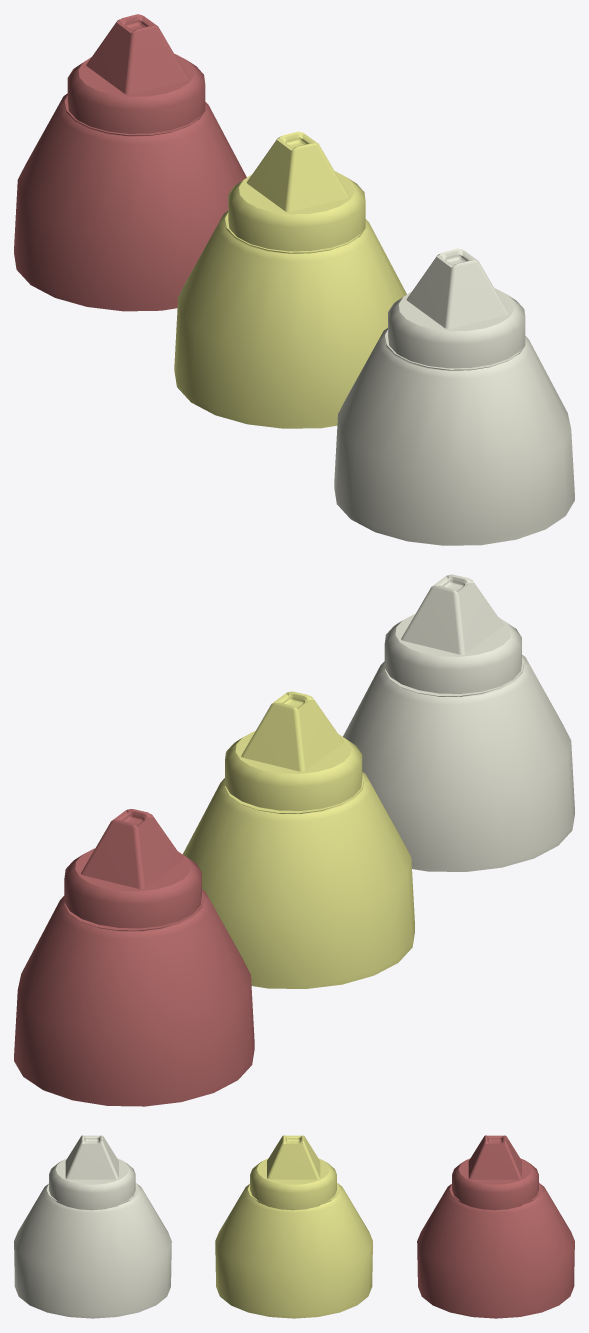
Rendered from Modelo capsu,mayonesa y mostaza.fbx.
The picture shows the model from 3 angles, top to bottom: view 1: azimuth 30°, elevation 25°; view 2: azimuth 150°, elevation 25°; view 3: azimuth 270°, elevation 25°; orthographic projection. The views are drawn at different scales.
Visible parts, largest first — view 1: pCylinder1, pCylinder6, pCylinder4, Capsu, pCylinder2, pCylinder3, pCube2, pCube3, pCube1; view 2: pCylinder6, pCylinder4, pCylinder1, pCylinder2, Capsu, pCylinder3, pCube1, pCube2, pCube3; view 3: pCylinder1, pCylinder6, pCylinder4, pCylinder3, Capsu, pCylinder2, pCube1, pCube2, pCube3.
Part boxes in pixels (left/top/right/bottom): pCylinder1: left=334, top=328, right=574, bottom=545; pCylinder6: left=14, top=93, right=246, bottom=311; pCylinder4: left=174, top=211, right=406, bottom=428; Capsu: left=67, top=54, right=205, bottom=133; pCylinder2: left=388, top=288, right=525, bottom=368; pCylinder3: left=228, top=171, right=365, bottom=251; pCube2: left=246, top=131, right=349, bottom=211; pCube3: left=86, top=14, right=188, bottom=94; pCube1: left=406, top=248, right=508, bottom=328; pCylinder6: left=14, top=889, right=254, bottom=1106; pCylinder4: left=182, top=772, right=414, bottom=988; pCylinder1: left=343, top=655, right=574, bottom=871; pCylinder2: left=384, top=614, right=521, bottom=693; Capsu: left=64, top=848, right=201, bottom=928; pCylinder3: left=225, top=731, right=362, bottom=810; pCube1: left=401, top=574, right=503, bottom=654; pCube2: left=241, top=691, right=343, bottom=771; pCube3: left=81, top=809, right=183, bottom=888; pCylinder1: left=14, top=1183, right=171, bottom=1318; pCylinder6: left=417, top=1183, right=574, bottom=1318; pCylinder4: left=215, top=1183, right=372, bottom=1318; pCylinder3: left=250, top=1158, right=336, bottom=1210; Capsu: left=452, top=1158, right=538, bottom=1210; pCylinder2: left=49, top=1158, right=135, bottom=1210; pCube1: left=65, top=1135, right=118, bottom=1179; pCube2: left=267, top=1135, right=320, bottom=1179; pCube3: left=468, top=1135, right=521, bottom=1179.
Size of the model in its own units: 4.99 by 5.47 by 18.57.
